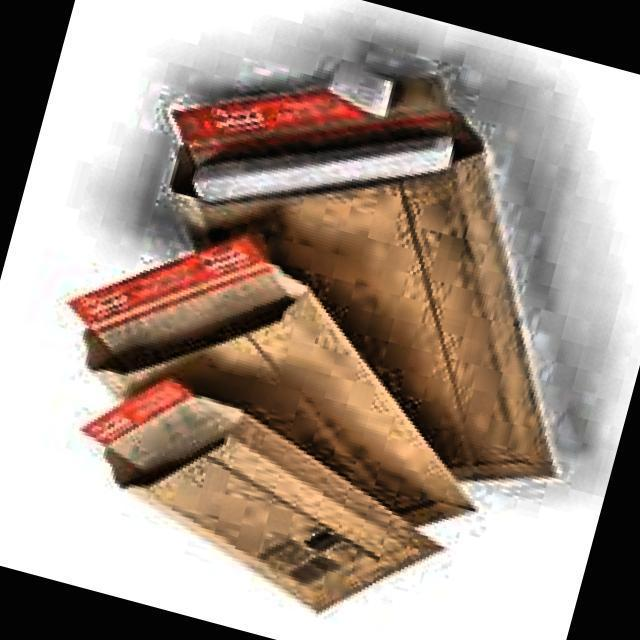cardboard: (95, 14, 640, 512)
